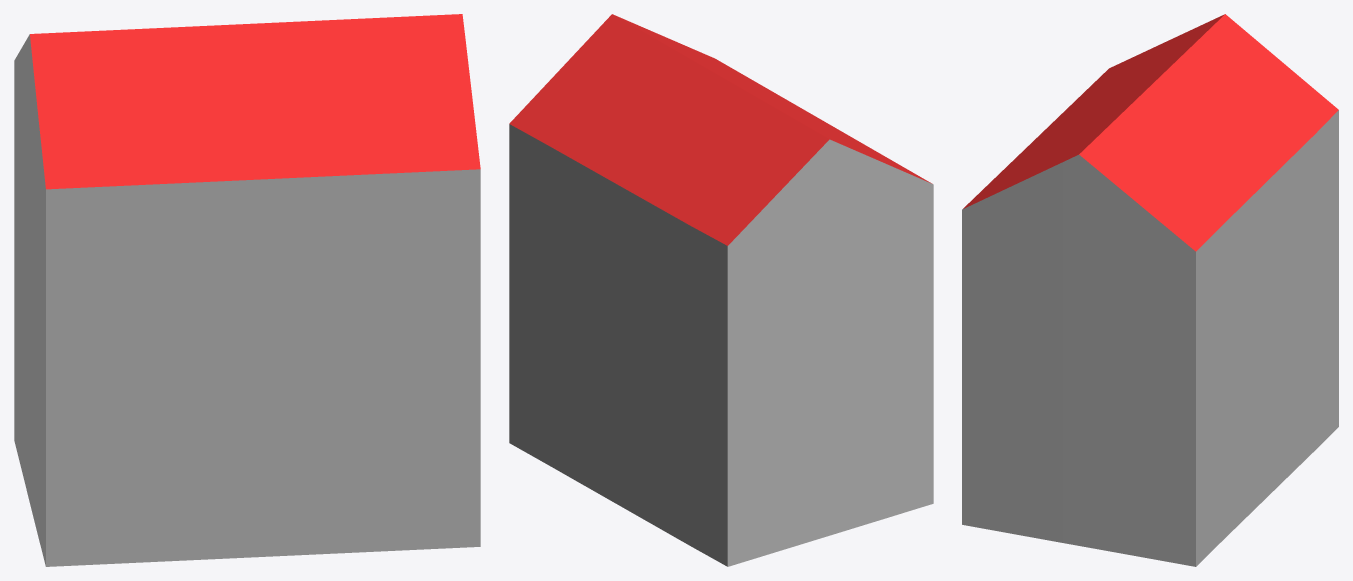
File: DEBY_LOD2_4907170.dae
3 renders of one model, left to right at view 1: azimuth 30°, elevation 25°; view 2: azimuth 150°, elevation 25°; view 3: azimuth 270°, elevation 25°, orthographic. The views are drawn at different scales.
Size of the model in its own units: 22.17 by 19.25 by 22.06.
